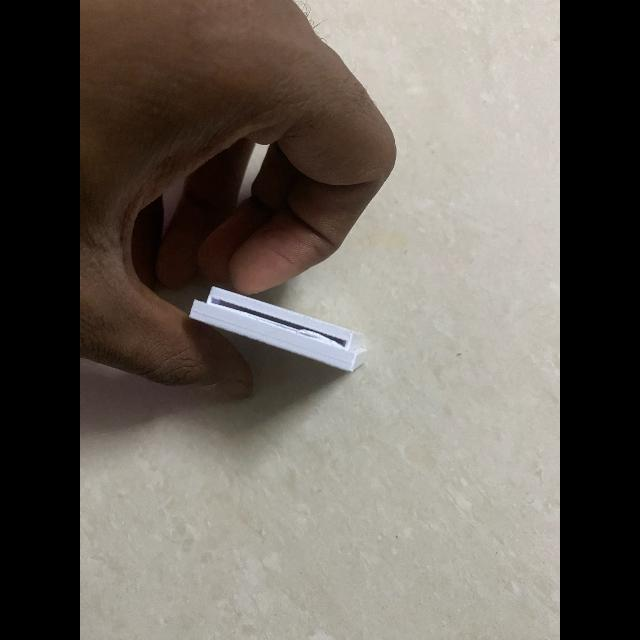RASPBERY PI CAM ENCLOSURE: (189, 286, 367, 372)
